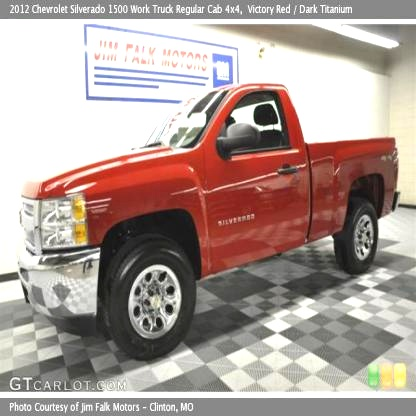Vehicle: (8, 70, 412, 372)
